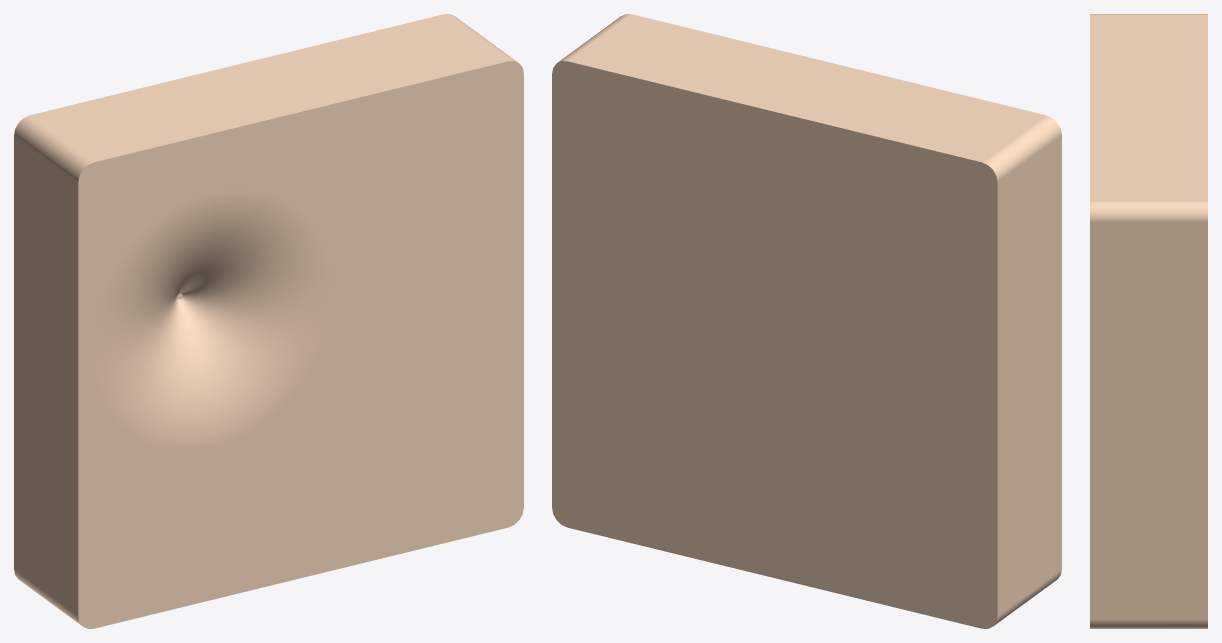
Rendered from Tissue_n40_p20.obj.
The picture shows the model from 3 angles, left to right: view 1: azimuth 30°, elevation 25°; view 2: azimuth 150°, elevation 25°; view 3: azimuth 270°, elevation 25°; orthographic projection. The views are drawn at different scales.
Visible parts, largest first — view 1: mesh 1 Tissue_n40_p20; view 2: mesh 1 Tissue_n40_p20; view 3: mesh 1 Tissue_n40_p20.
Part boxes in pixels (box(x1,y1,x2,y2)): mesh 1 Tissue_n40_p20: box(14, 14, 523, 628); mesh 1 Tissue_n40_p20: box(552, 14, 1061, 628); mesh 1 Tissue_n40_p20: box(1090, 14, 1207, 628).
Size of the model in its own units: 0.2 by 0.2 by 0.05.
